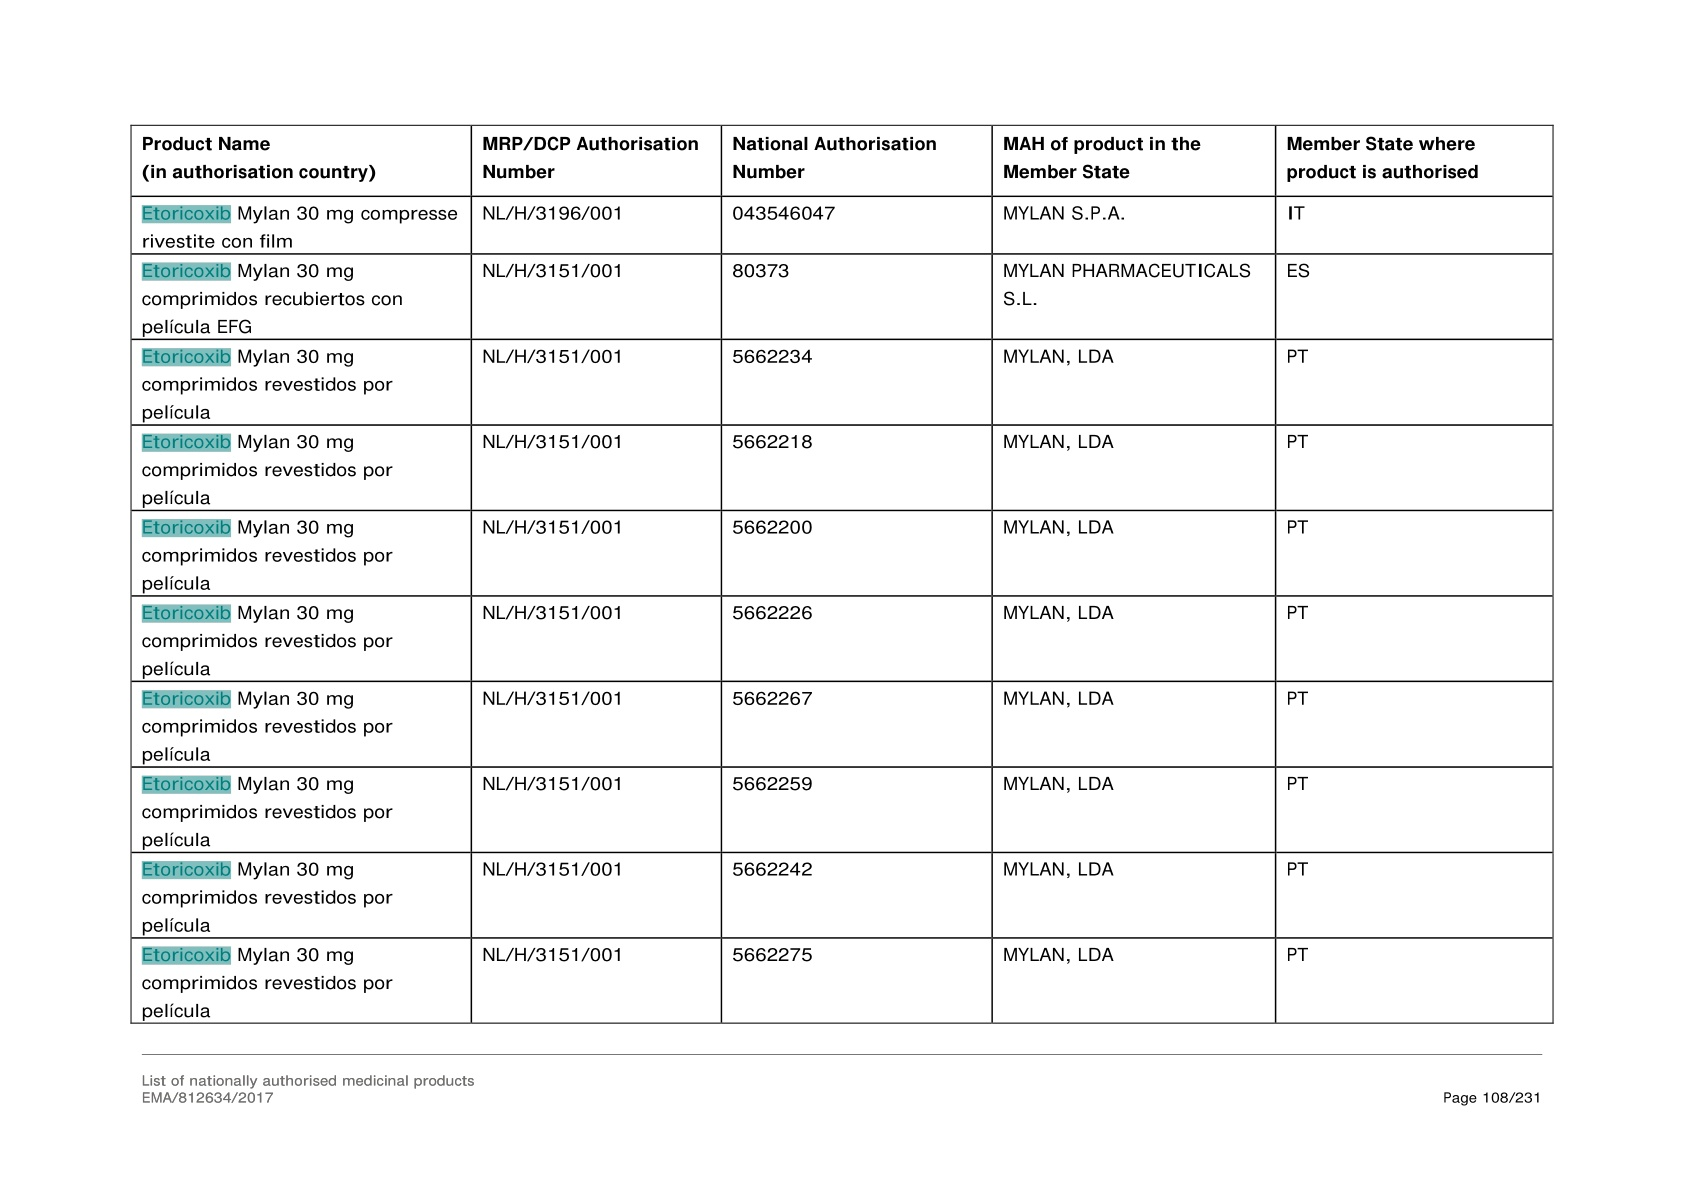full_lined: (128, 124, 1555, 1025)
